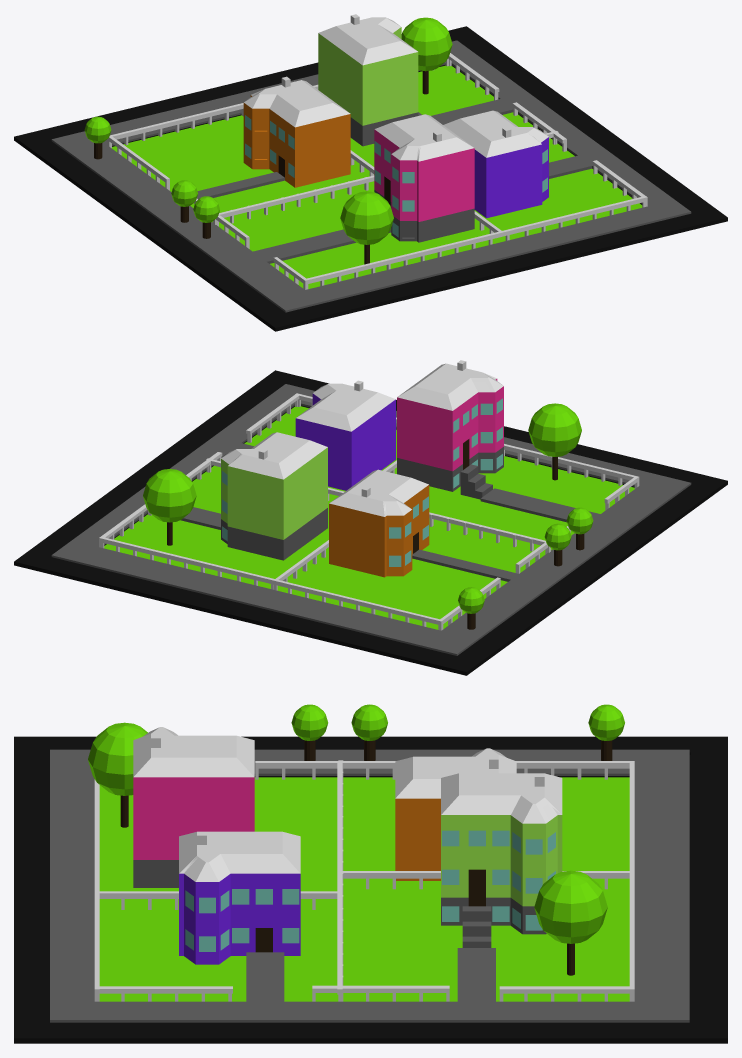
File: smallhouses_c.FBX
The picture shows the model from 3 angles, top to bottom: view 1: azimuth 30°, elevation 25°; view 2: azimuth 150°, elevation 25°; view 3: azimuth 270°, elevation 25°; orthographic projection. The views are drawn at different scales.
Parts seen in each view (by area): view 1: Layer:greenery, Layer:bldgconcrete, Layer:street, Layer:0, Layer:bluegouse, Layer:rowhouse3, Layer:rowhouse1, Layer:rowhouse2, Layer:windows, Layer:wood; view 2: Layer:greenery, Layer:bldgconcrete, Layer:street, Layer:0, Layer:bluegouse, Layer:rowhouse1, Layer:rowhouse3, Layer:rowhouse2, Layer:windows, Layer:wood; view 3: Layer:greenery, Layer:bldgconcrete, Layer:street, Layer:0, Layer:rowhouse1, Layer:rowhouse2, Layer:bluegouse, Layer:windows, Layer:rowhouse3, Layer:wood.
Part boxes in pixels (x1,y1,x2,y2): Layer:greenery: (84, 17, 642, 288); Layer:bldgconcrete: (51, 40, 691, 312); Layer:street: (14, 26, 727, 331); Layer:0: (107, 14, 647, 289); Layer:bluegouse: (318, 27, 418, 125); Layer:rowhouse3: (243, 95, 350, 187); Layer:rowhouse1: (374, 129, 474, 221); Layer:rowhouse2: (474, 137, 548, 218); Layer:windows: (245, 115, 547, 237); Layer:wood: (94, 71, 428, 264); Layer:greenery: (104, 403, 634, 629); Layer:bldgconcrete: (51, 384, 691, 655); Layer:street: (14, 370, 727, 675); Layer:0: (99, 360, 639, 630); Layer:bluegouse: (221, 447, 327, 539); Layer:rowhouse1: (397, 379, 503, 471); Layer:rowhouse3: (329, 485, 429, 577); Layer:rowhouse2: (295, 393, 395, 490); Layer:windows: (222, 398, 502, 566); Layer:wood: (167, 439, 584, 629); Layer:greenery: (88, 704, 629, 1001); Layer:bldgconcrete: (50, 749, 689, 1022); Layer:street: (14, 736, 727, 1043); Layer:0: (94, 727, 634, 1001); Layer:rowhouse1: (133, 777, 254, 859); Layer:rowhouse2: (179, 873, 300, 964); Layer:bluegouse: (441, 815, 562, 906); Layer:windows: (185, 830, 555, 951); Layer:rowhouse3: (395, 798, 440, 880); Layer:wood: (120, 740, 612, 975).
Size of the model in its own units: 4000 by 914 by 4000.
